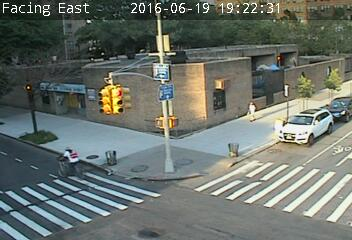neg: (145, 141, 175, 180), (54, 141, 82, 178)
pos: (243, 97, 260, 120)
